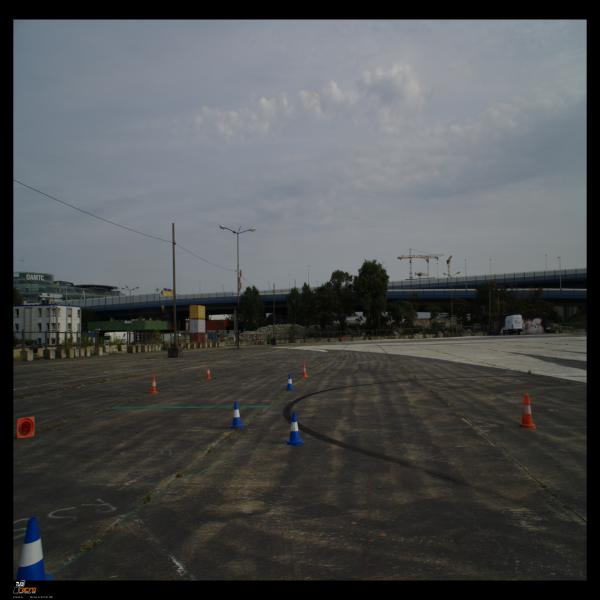blue_cone: (14, 517, 53, 580), (284, 412, 305, 446), (230, 401, 245, 429), (285, 374, 295, 390)
orange_cone: (519, 394, 536, 429), (17, 416, 34, 438), (148, 376, 159, 394), (300, 363, 308, 378), (205, 366, 212, 379)
